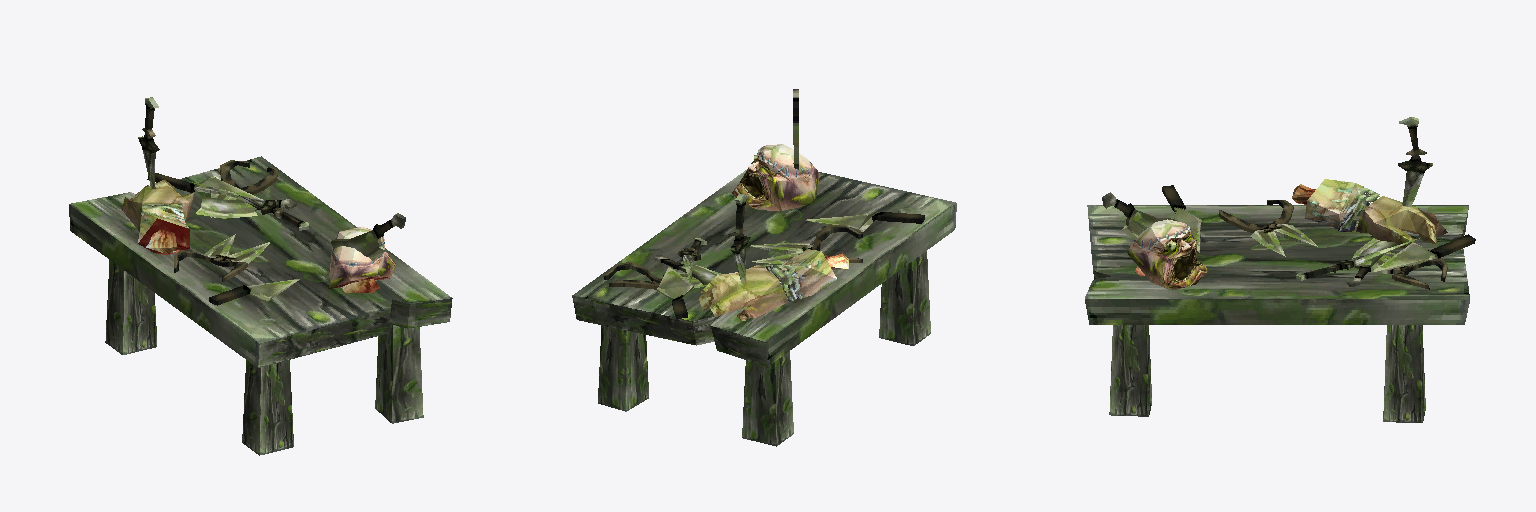
3 views of the same model, side by side, from view 1: azimuth 30°, elevation 25°; view 2: azimuth 150°, elevation 25°; view 3: azimuth 270°, elevation 25° (orthographic).
Visible parts, largest first — view 1: undead_tools_table; view 2: undead_tools_table; view 3: undead_tools_table.
Part boxes in pixels (left/top/right/bottom): undead_tools_table: left=69, top=97, right=452, bottom=455; undead_tools_table: left=572, top=89, right=956, bottom=446; undead_tools_table: left=1085, top=117, right=1475, bottom=422.
Bounding box in the file's own units: 2.02 × 2.29 × 3.41.
3 materials, 3 textured.